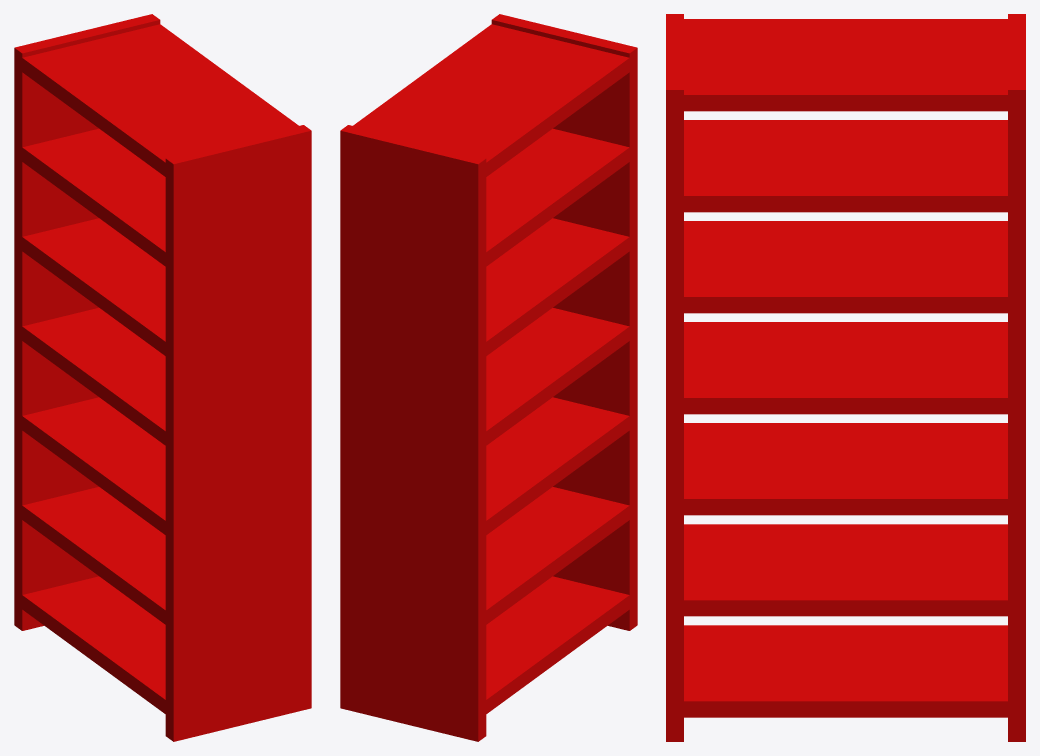
The model's file is bookshelf.fbx.
3 renders of one model, left to right at view 1: azimuth 30°, elevation 25°; view 2: azimuth 150°, elevation 25°; view 3: azimuth 270°, elevation 25°, orthographic. The views are drawn at different scales.
Parts seen in each view (by area): view 1: bookshelf side_low.001, bookshelf hor_low.001; view 2: bookshelf side_low.001, bookshelf hor_low.001; view 3: bookshelf hor_low.001, bookshelf side_low.001.
Part boxes in pixels (x1,y1,x2,y2): bookshelf side_low.001: (14, 14, 311, 741); bookshelf hor_low.001: (22, 24, 298, 713); bookshelf side_low.001: (340, 14, 637, 741); bookshelf hor_low.001: (353, 24, 629, 713); bookshelf hor_low.001: (684, 19, 1007, 717); bookshelf side_low.001: (666, 14, 1025, 741).
Size of the model in its own units: 50 by 200 by 100.
